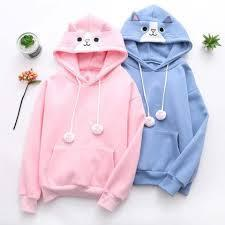sweater: (27, 8, 133, 202), (117, 7, 207, 192)
